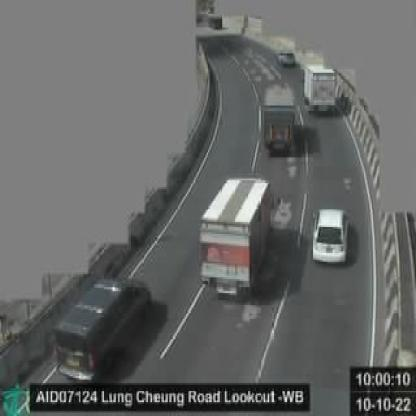Car: (54, 276, 152, 382), (311, 204, 350, 266), (280, 48, 297, 66)
Truck: (200, 178, 276, 306), (263, 82, 296, 156), (305, 57, 339, 116)
